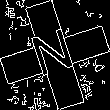N_S: (28, 25, 82, 85)
